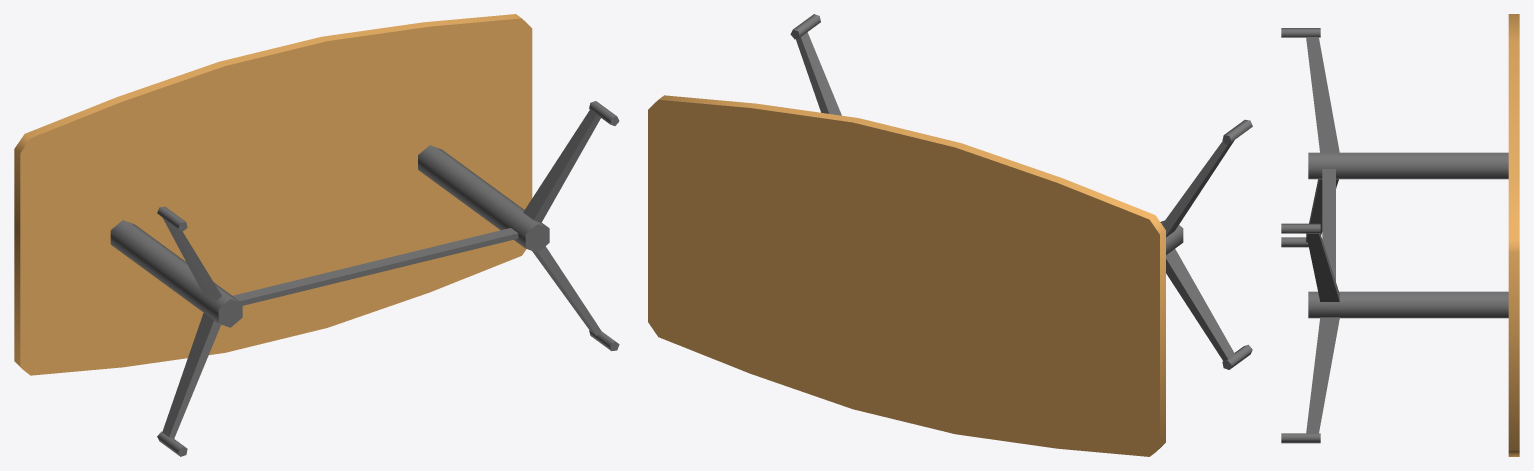
File: desk.glb
3 renders of one model, left to right at view 1: azimuth 30°, elevation 25°; view 2: azimuth 150°, elevation 25°; view 3: azimuth 270°, elevation 25°, orthographic. The views are drawn at different scales.
Parts seen in each view (by area): view 1: office_table_021; view 2: office_table_021; view 3: office_table_021.
Boxes of the visible parts, <box> form: office_table_021: <box>14,14,619,456</box>; office_table_021: <box>648,14,1252,456</box>; office_table_021: <box>1281,14,1519,456</box>.
Bounding box in the file's own units: 1.63 × 0.8718 × 0.708.
1 material, 1 textured.
